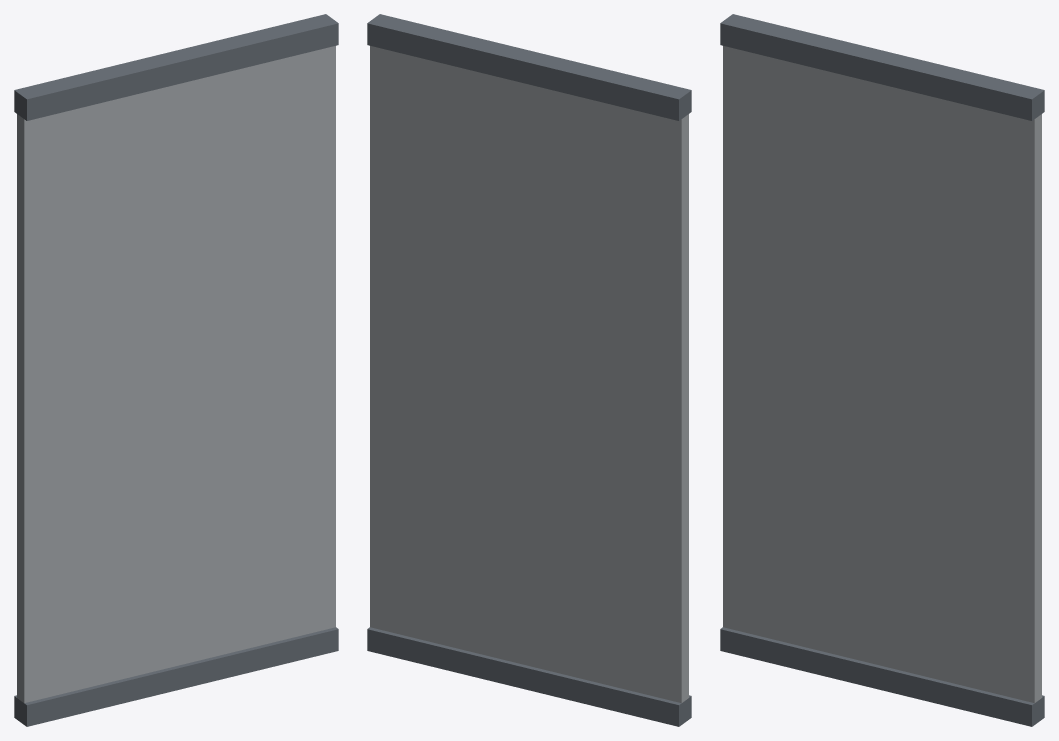
Rendered from CubicalWall_04.FBX.
The picture shows the model from 3 angles, left to right: view 1: azimuth 30°, elevation 25°; view 2: azimuth 150°, elevation 25°; view 3: azimuth 330°, elevation 25°; orthographic projection.
Visible parts, largest first — view 1: CubicalWall_Tall_01_Half; view 2: CubicalWall_Tall_01_Half; view 3: CubicalWall_Tall_01_Half.
Boxes of the visible parts, <box> form: CubicalWall_Tall_01_Half: <box>14,14,338,726</box>; CubicalWall_Tall_01_Half: <box>367,14,691,726</box>; CubicalWall_Tall_01_Half: <box>720,14,1044,726</box>.
Bounding box in the file's own units: 100 × 192 × 7.06.
